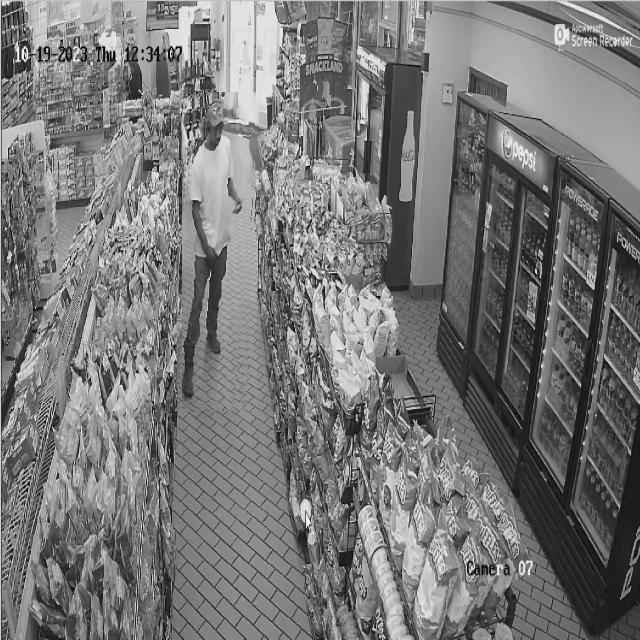Normal: (182, 92, 256, 412)
